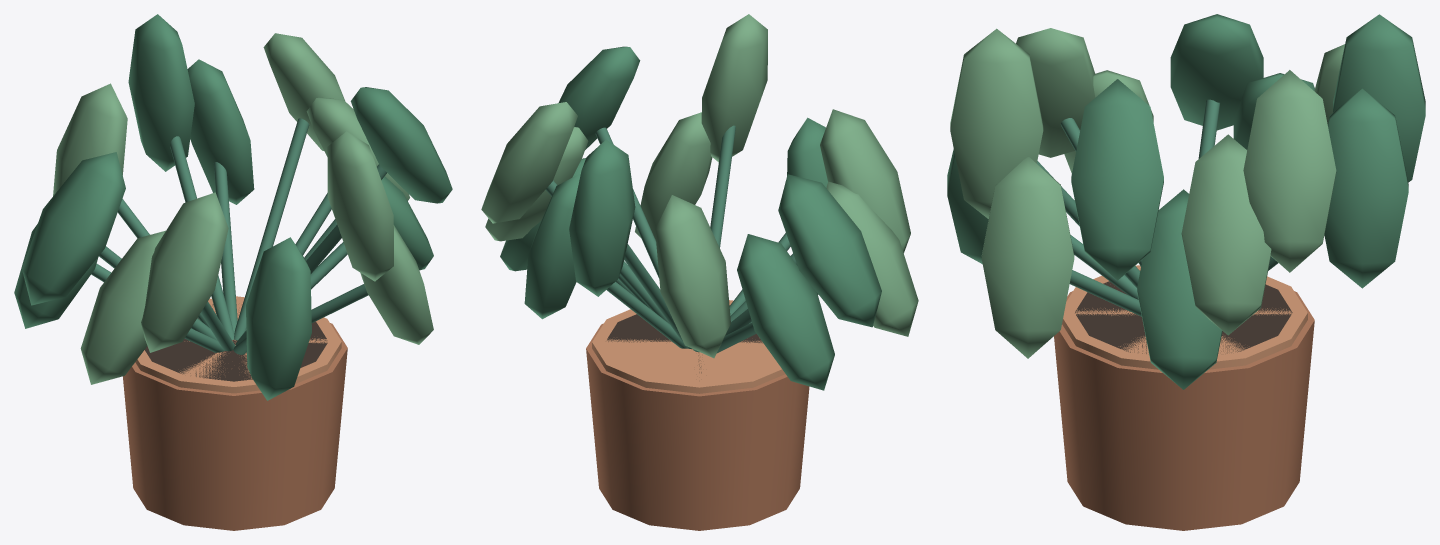
File: officeFern.glb
3 views of the same model, side by side, from view 1: azimuth 30°, elevation 25°; view 2: azimuth 150°, elevation 25°; view 3: azimuth 270°, elevation 25° (orthographic). The views are drawn at different scales.
Bounding box in the file's own units: 0.5729 × 0.5839 × 0.5359.
